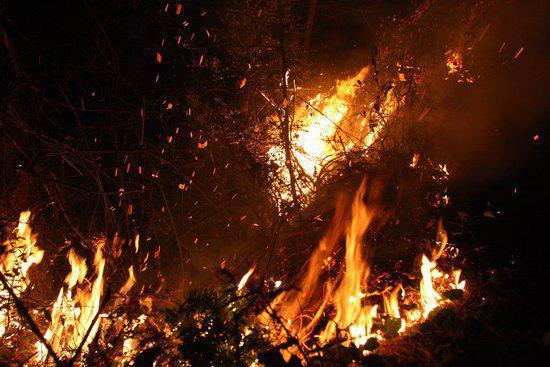fire: (267, 184, 470, 344), (2, 207, 154, 365), (261, 59, 411, 165)
